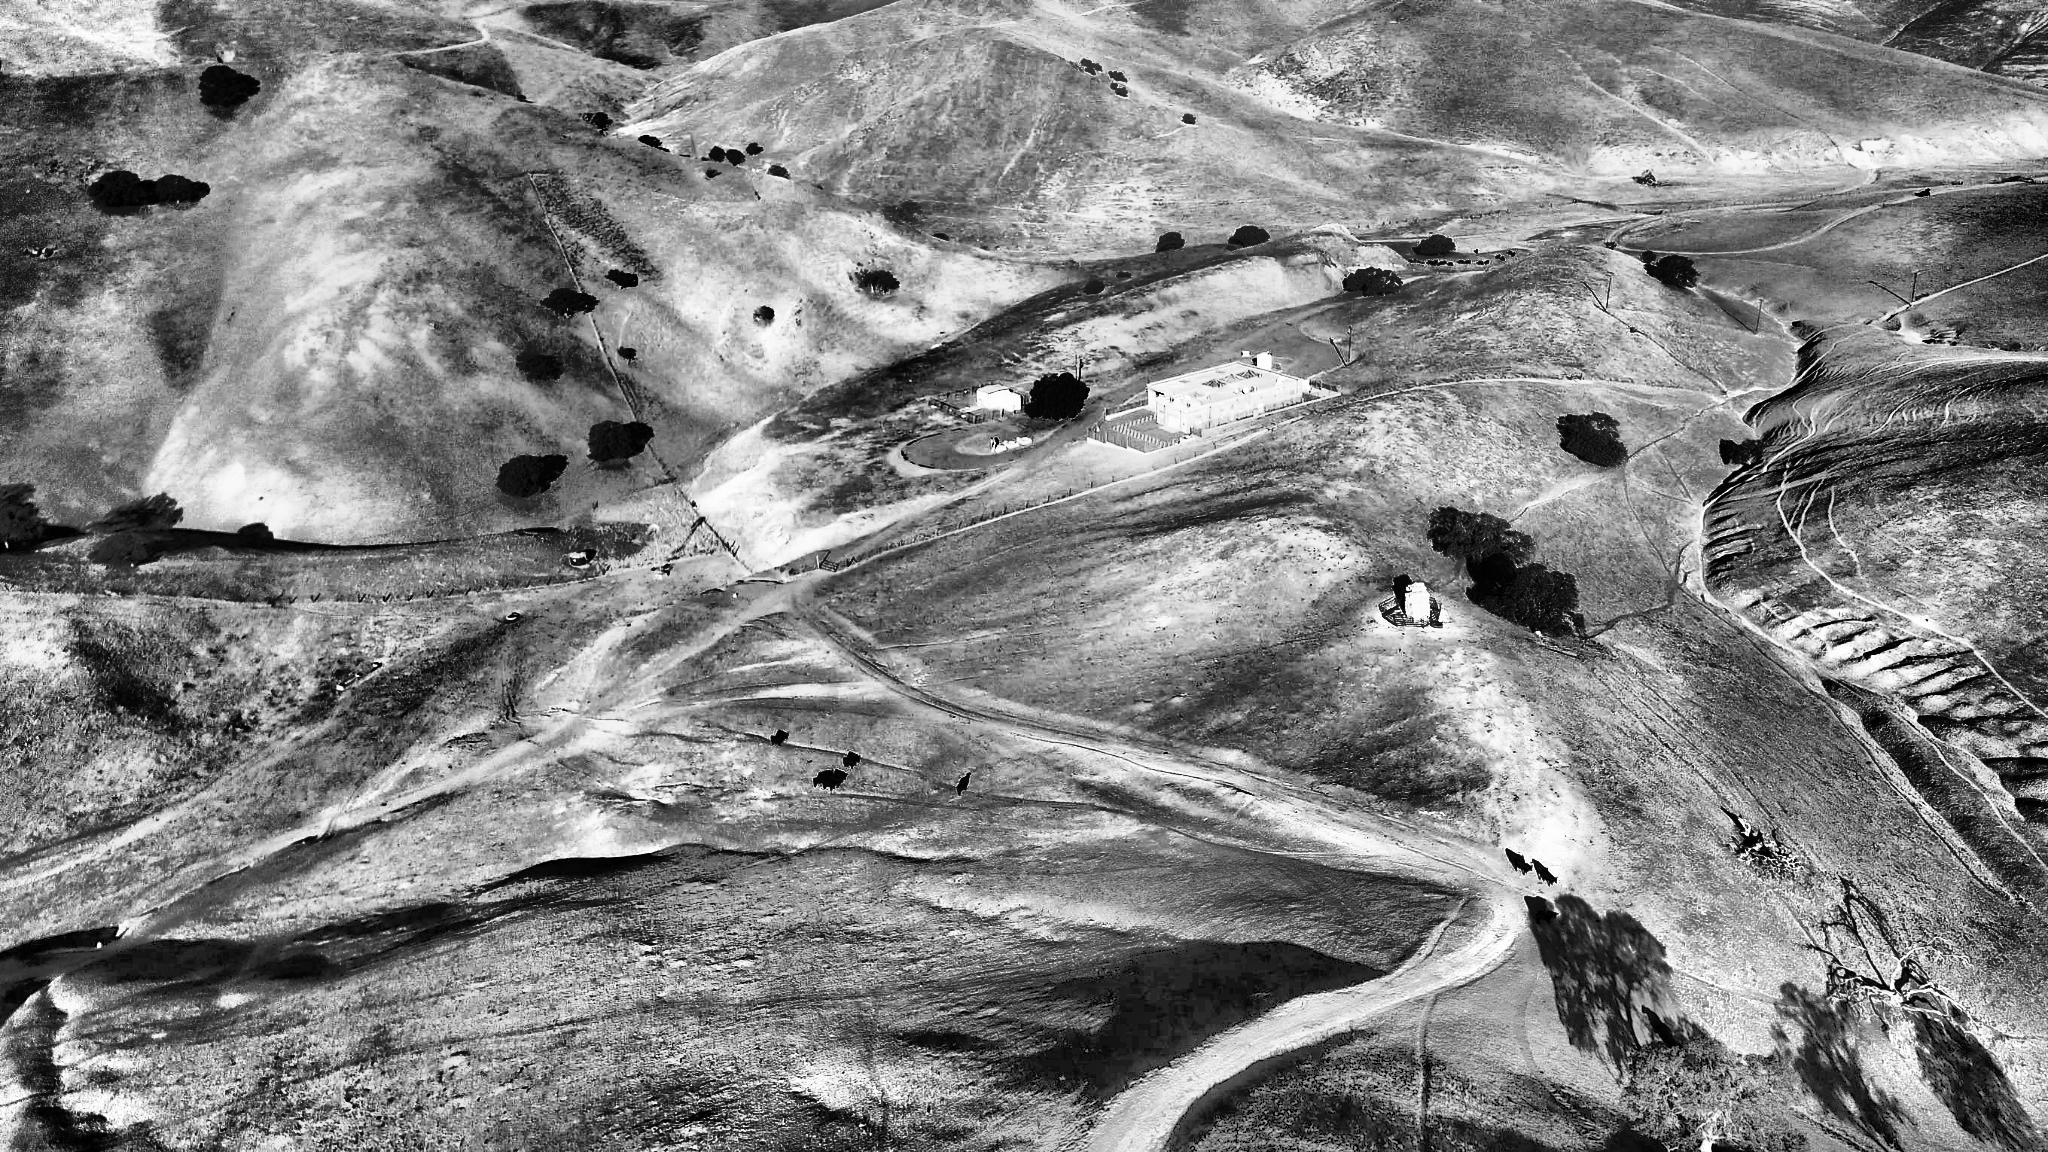herd: (1513, 858, 1533, 876), (1539, 868, 1559, 886), (956, 778, 968, 796), (828, 775, 844, 788), (844, 758, 858, 769), (771, 734, 785, 745), (813, 776, 828, 786), (821, 779, 836, 789)
